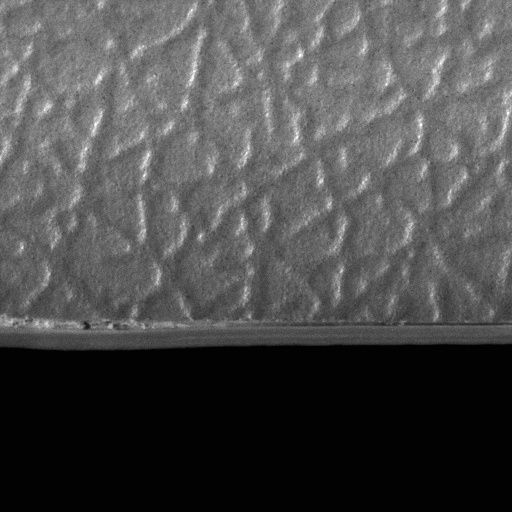kaijiao: (0, 313, 217, 356)
